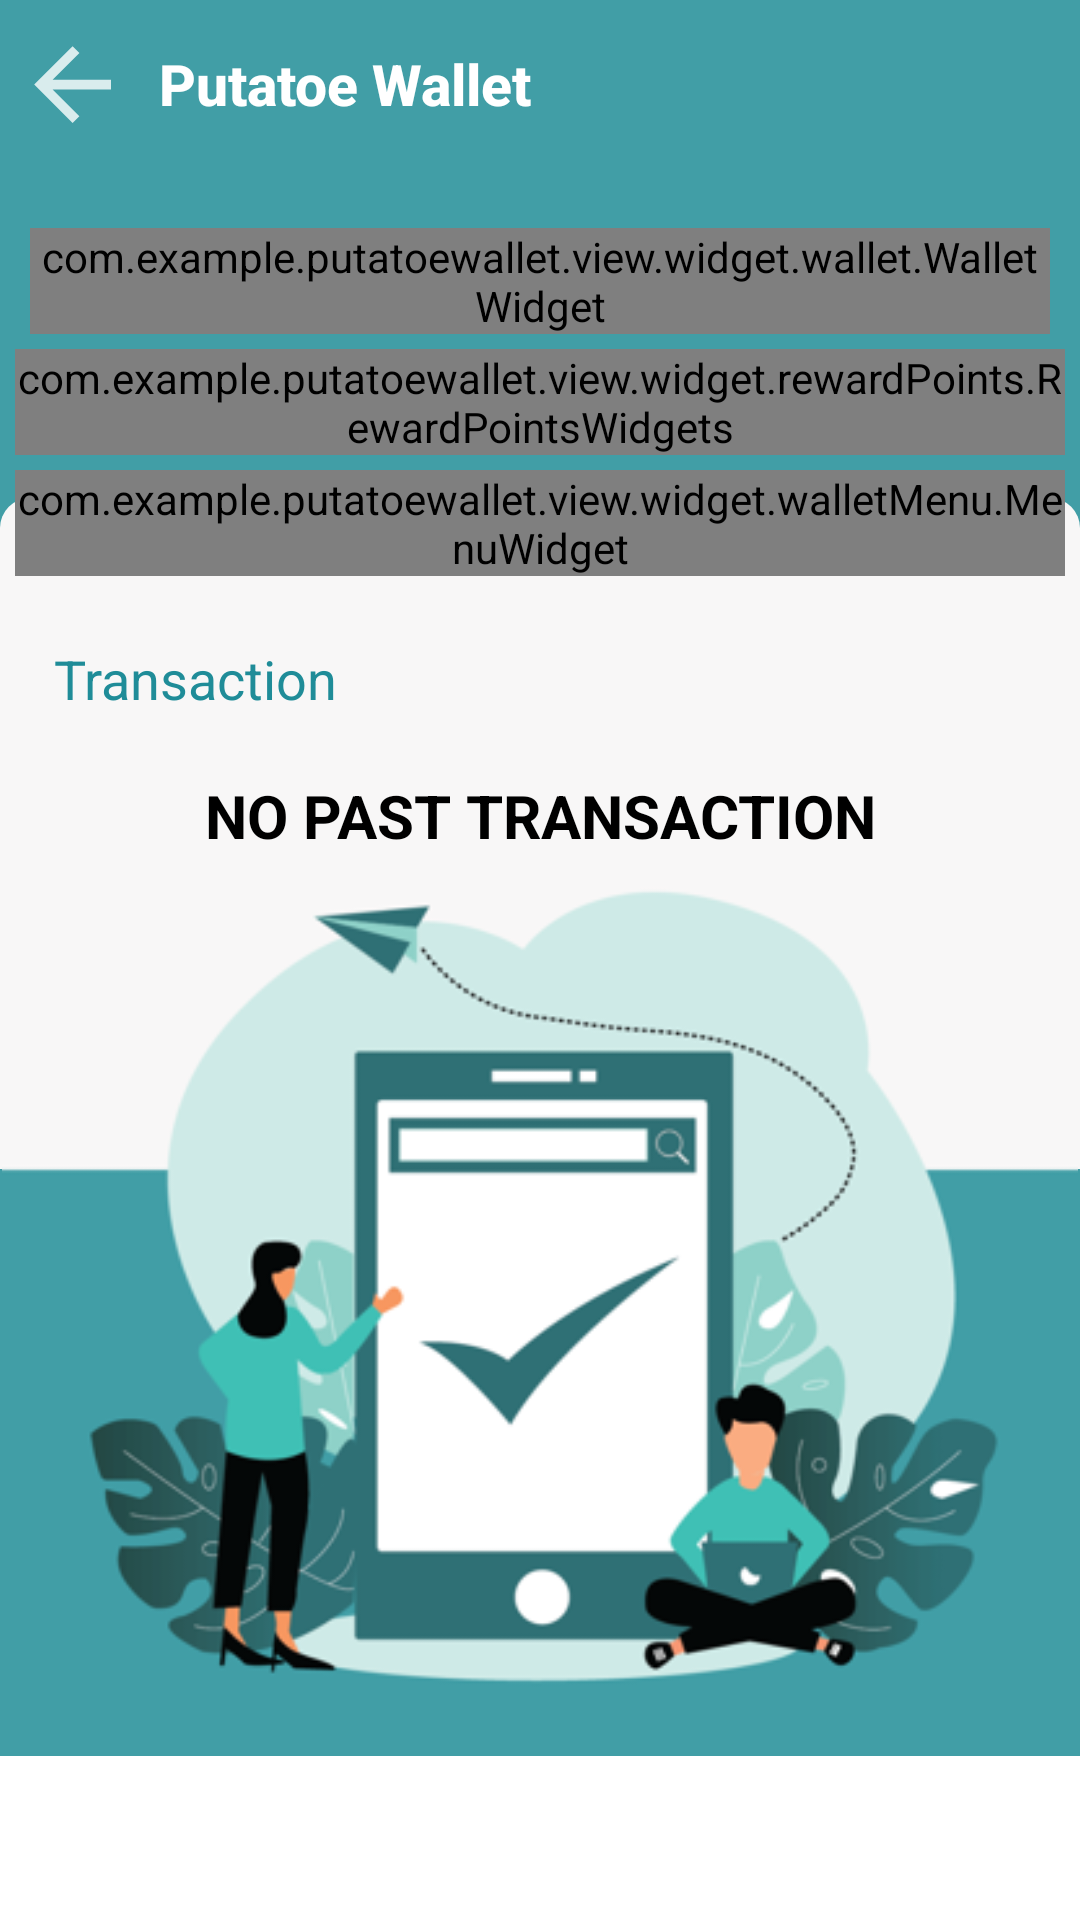

Point at icon controls on the screen. Image size 1080 x 1920, points as point (x, y).
back: point (72, 84)
